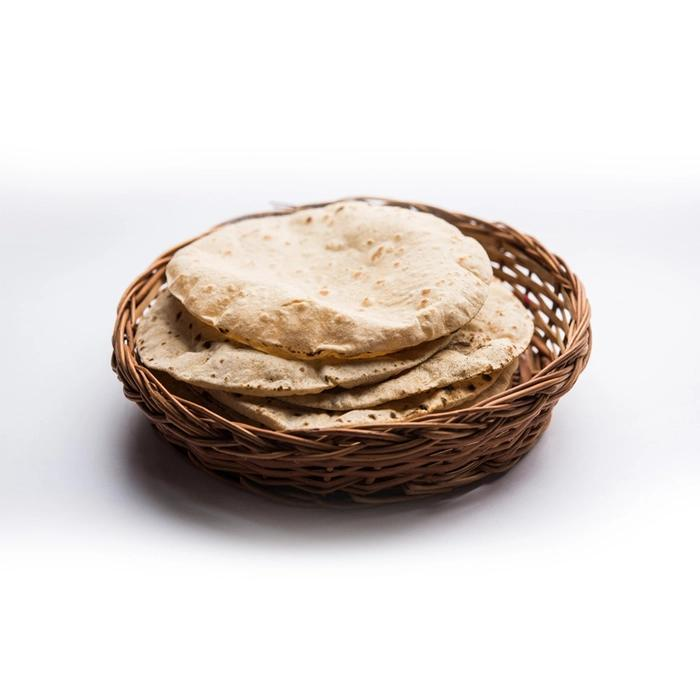roti phulka: (167, 211, 541, 408)
